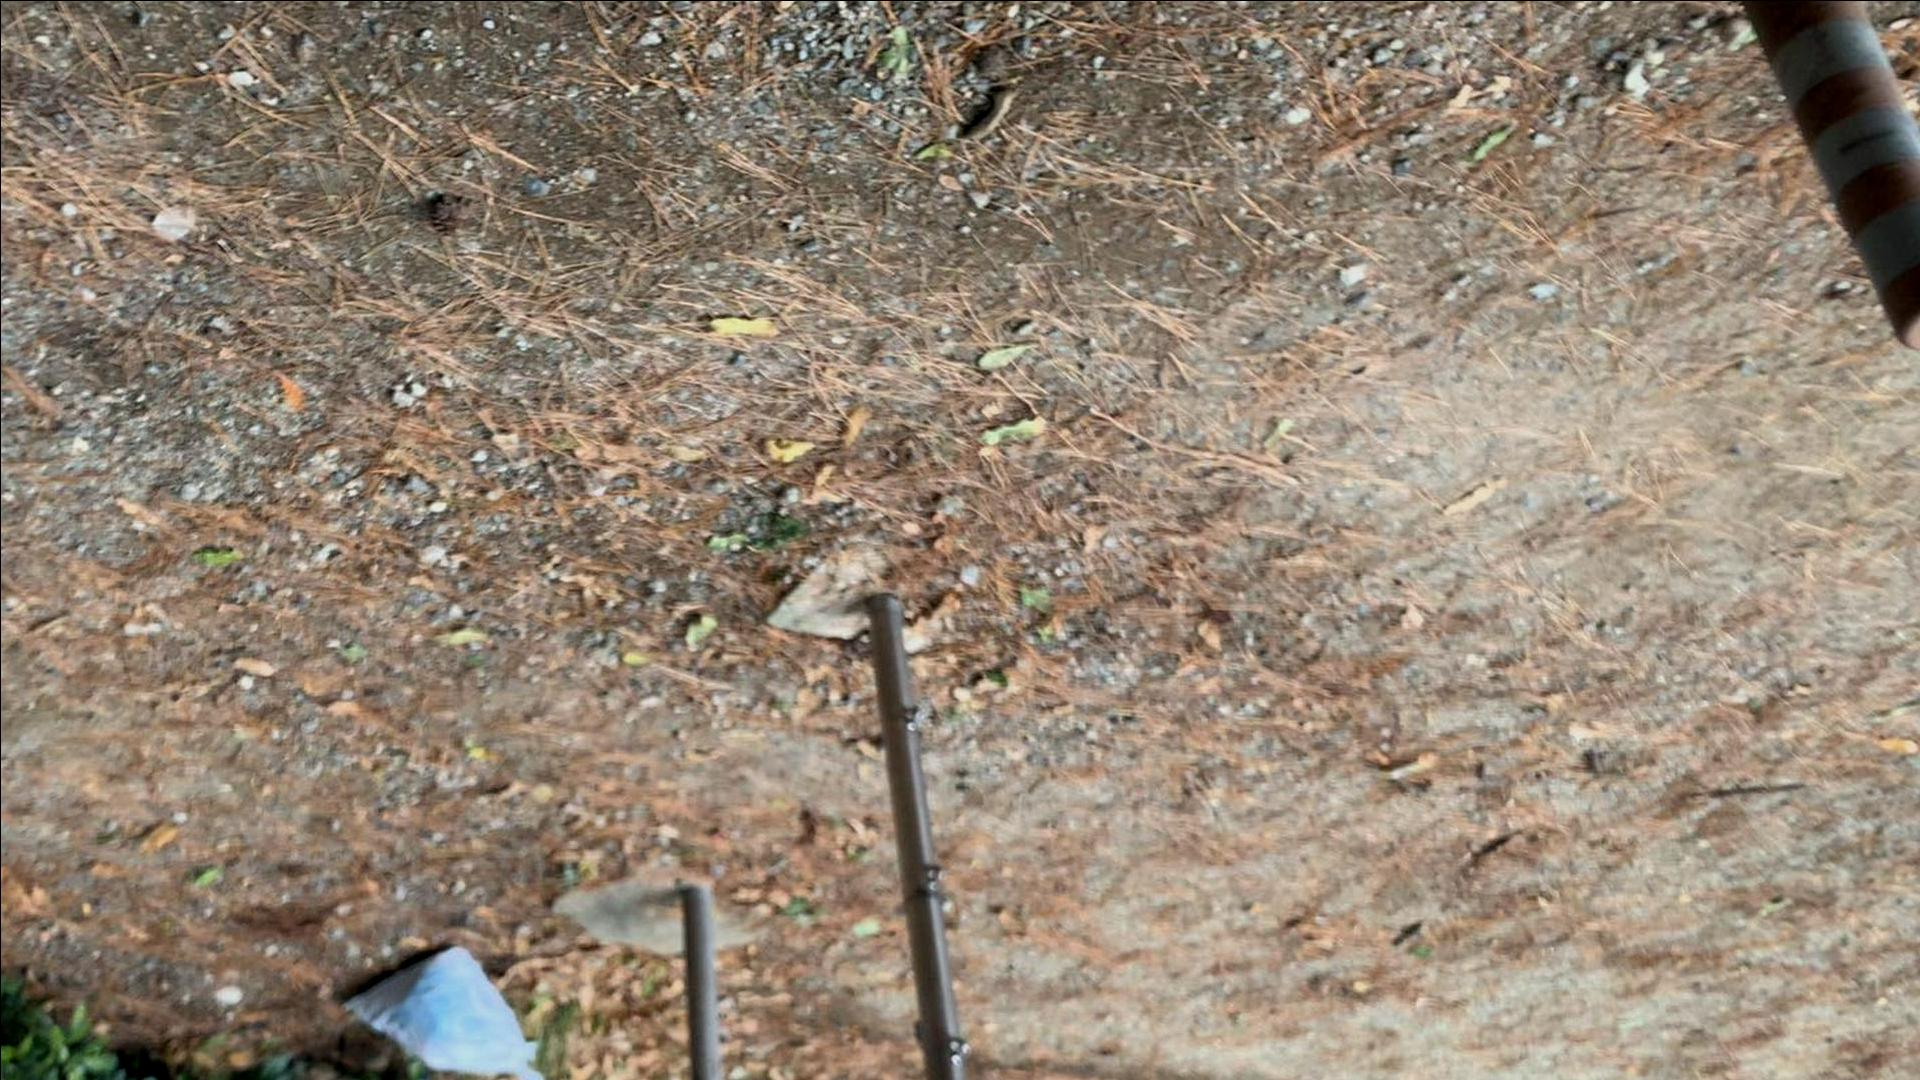white_bag: (324, 934, 547, 1080)
